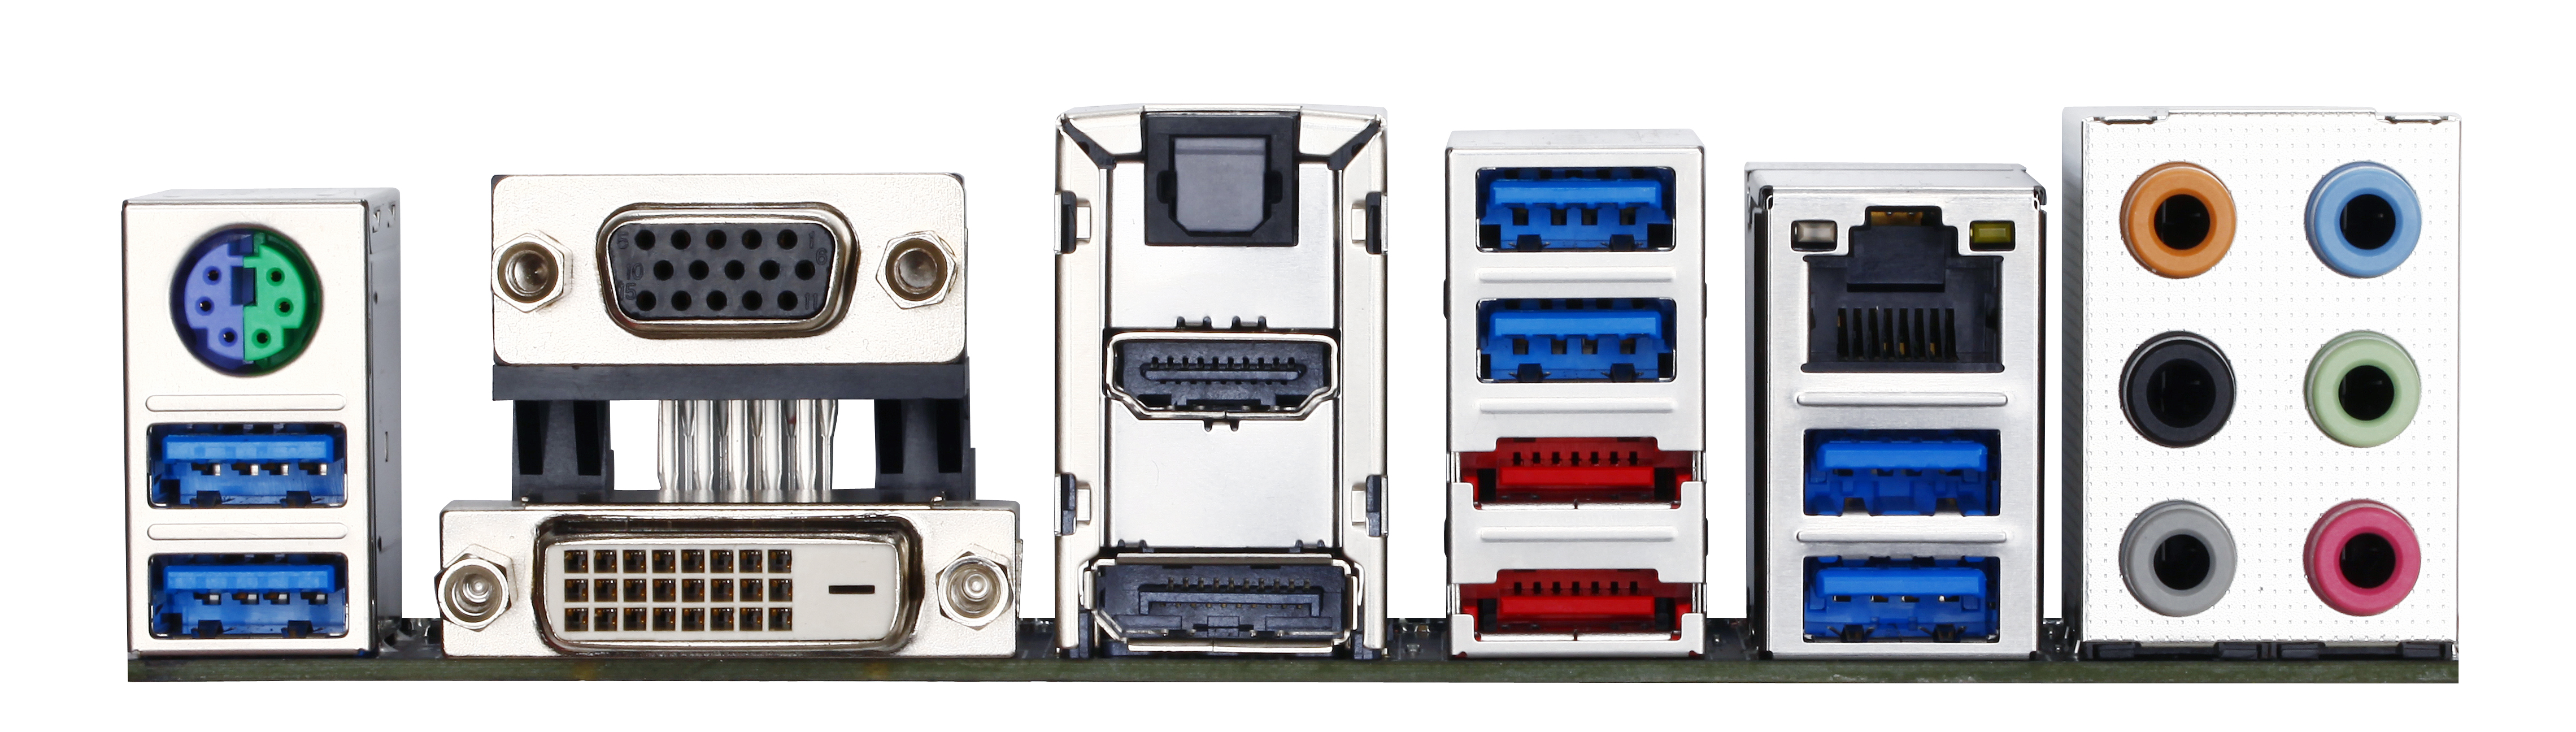Audio: (2297, 137, 2440, 288), (2287, 489, 2428, 623), (2103, 322, 2241, 456), (2103, 498, 2247, 623), (2114, 148, 2236, 283), (2290, 327, 2422, 449)
DVI: (516, 513, 927, 653)
Ethernet: (1774, 206, 2042, 395)
HDMI: (1094, 316, 1349, 416)
USB: (1446, 151, 1704, 270), (1459, 283, 1699, 406), (1781, 419, 2011, 526), (140, 416, 358, 526), (1786, 549, 2017, 645), (133, 549, 353, 646)
VGA: (583, 188, 872, 344)
